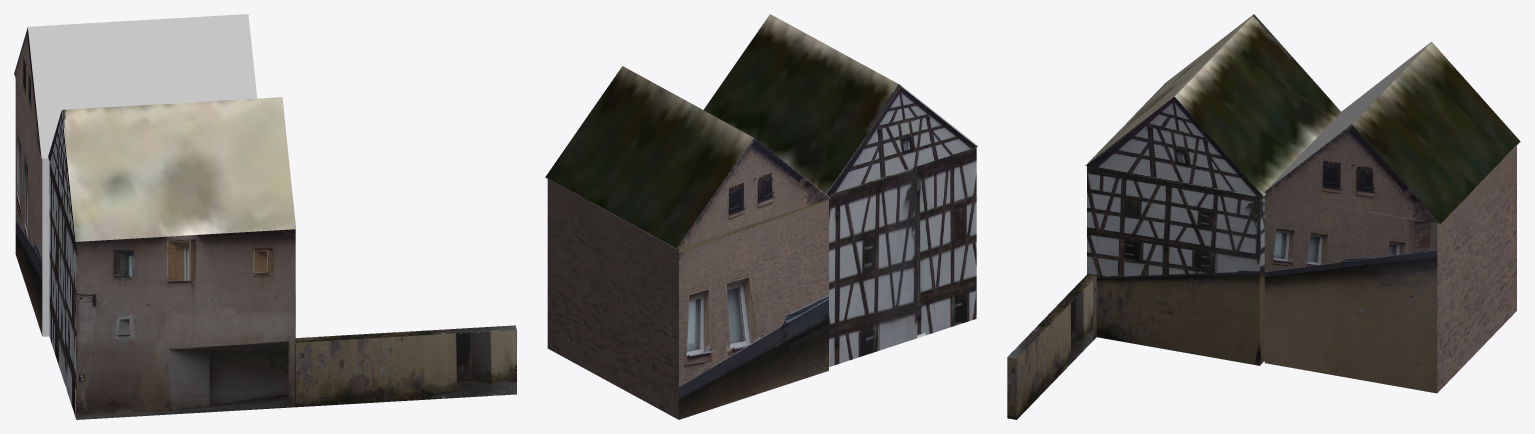
The model's file is fachwerk.dae.
3 views of the same model, side by side, from view 1: azimuth 30°, elevation 25°; view 2: azimuth 150°, elevation 25°; view 3: azimuth 270°, elevation 25° (orthographic). The views are drawn at different scales.
Parts seen in each view (by area): view 1: SketchUp (×9); view 2: SketchUp (×7); view 3: SketchUp (×9).
Boxes of the visible parts, box(x1,y1,x2,y2) form: SketchUp (×9): box(14, 14, 516, 419); SketchUp (×7): box(545, 14, 978, 419); SketchUp (×9): box(1007, 14, 1520, 419).
Bounding box in the file's own units: 749 × 973 × 531.
